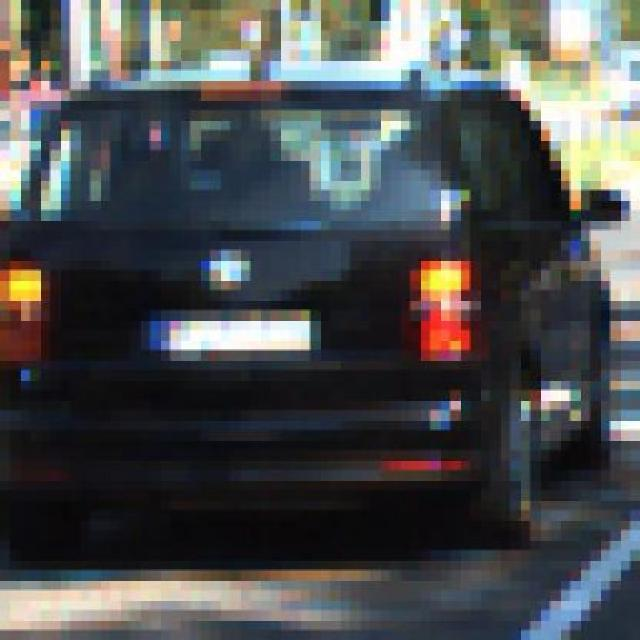vehicle: (0, 40, 630, 560)
